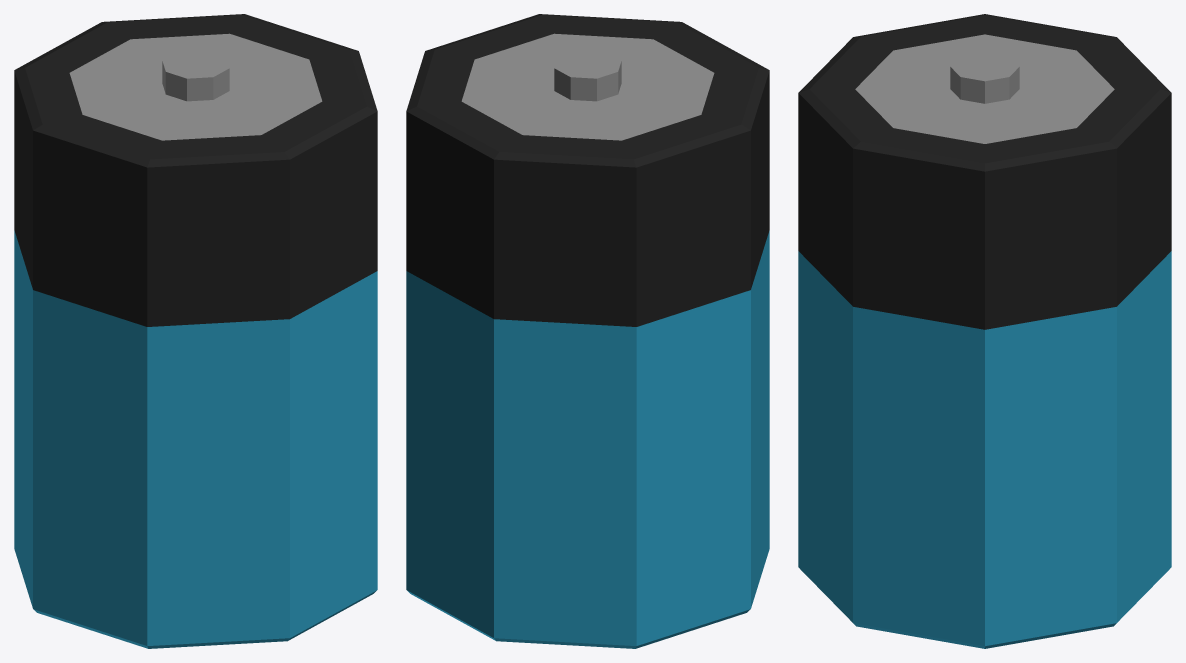
Rendered from Battery_3_vc.fbx.
3 renders of one model, left to right at view 1: azimuth 30°, elevation 25°; view 2: azimuth 150°, elevation 25°; view 3: azimuth 270°, elevation 25°, orthographic.
Visible parts, largest first — view 1: Battery_3_vc; view 2: Battery_3_vc; view 3: Battery_3_vc.
Part boxes in pixels (bbox=[...]): Battery_3_vc: bbox=[14, 14, 377, 648]; Battery_3_vc: bbox=[406, 14, 769, 648]; Battery_3_vc: bbox=[798, 14, 1171, 648].
Size of the model in its own units: 3.18 by 4.75 by 3.18.
